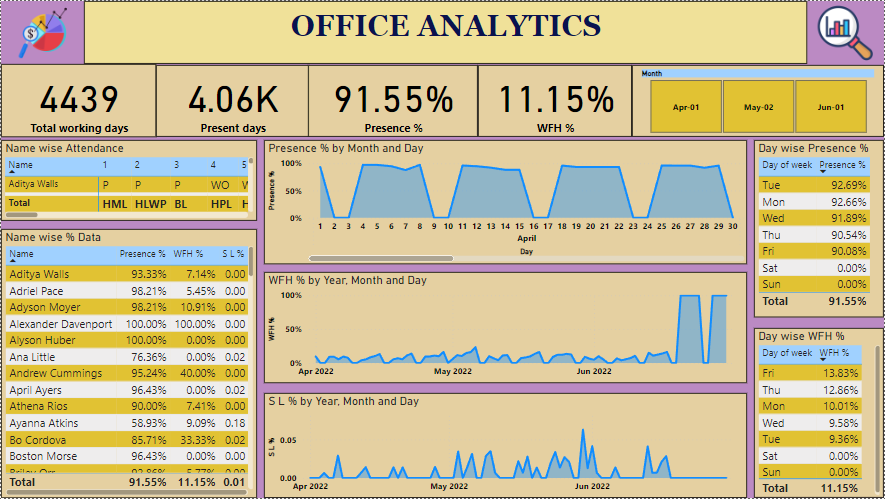

What the dashboard file says about the page in this screenshot:
{"tool":"powerbi","page":{"name":"Page 1","canvas":[1280,720],"ordinal":0},"visuals":[{"type":"card","fields":{"Values":["Final data.Total working days"]},"box":[0,91.3,224.6,105.8],"z":0},{"type":"card","fields":{"Values":["Final data.Present days"]},"box":[224.6,92.8,221.7,104.3],"z":1000},{"type":"card","fields":{"Values":["Final data.Presence %"]},"box":[444.9,92.8,246.4,104.3],"z":2000},{"type":"slicer","fields":{"Values":["Final data.Month"]},"box":[914.4,92.2,365.8,103.7],"z":3000},{"type":"card","fields":{"Values":["Final data.WFH %"]},"box":[691.3,92.8,223.2,104.3],"z":4000},{"type":"tableEx","title":"Name wise % Data","fields":{"Values":["Final data.Name","Final data.Presence %","Final data.WFH %","Final data.S L %"]},"box":[0,330.4,371,389.9],"z":5000},{"type":"pivotTable","title":"Name wise Attendance","fields":{"Rows":["Final data.Name"],"Values":["Final data.Value"],"Columns":["Final data.Date.Variation.Date Hierarchy.Day"]},"box":[0,201.4,371,117.4],"z":6000},{"type":"areaChart","fields":{"Y":["Final data.Presence %"],"Category":["Final data.Date.Variation.Date Hierarchy.Month","Final data.Date.Variation.Date Hierarchy.Day"]},"box":[381.2,201.4,700,179.7],"z":7000},{"type":"areaChart","fields":{"Y":["Final data.WFH %"],"Category":["Final data.Date.Variation.Date Hierarchy.Year","Final data.Date.Variation.Date Hierarchy.Month","Final data.Date.Variation.Date Hierarchy.Day"]},"box":[381.2,392.8,700,160.9],"z":8000},{"type":"areaChart","fields":{"Category":["Final data.Date.Variation.Date Hierarchy.Year","Final data.Date.Variation.Date Hierarchy.Month","Final data.Date.Variation.Date Hierarchy.Day"],"Y":["Final data.S L %"]},"box":[381.2,568.1,700,152.2],"z":9000},{"type":"tableEx","title":"Day wise Presence %","fields":{"Values":["Final data.Day of week","Final data.Presence %"]},"box":[1091.3,201.4,188.4,256.5],"z":10000},{"type":"tableEx","title":"Day wise WFH %","fields":{"Values":["Final data.Day of week","Final data.WFH %"]},"box":[1091.3,473.9,188.4,246.4],"z":11000},{"type":"textbox","box":[120.3,0,1047.8,91.3],"z":12000},{"type":"image","box":[0,0,120.3,92.8],"z":13000},{"type":"image","box":[1168.1,0,111.6,92.8],"z":14000}]}

Visuals, with their boxes in screenshot pixels (x1, y1, x2, y2), scaled from the page's 1280x720 canvas onto the 885x499 screenshot:
card - Final data.Total working days: l=0, t=63, r=155, b=137
card - Final data.Present days: l=155, t=64, r=309, b=137
card - Final data.Presence %: l=308, t=64, r=478, b=137
slicer - Final data.Month: l=632, t=64, r=884, b=136
card - Final data.WFH %: l=478, t=64, r=632, b=137
"Name wise % Data" tableEx: l=0, t=229, r=257, b=498
"Name wise Attendance" pivotTable: l=0, t=140, r=257, b=221
areaChart - Final data.Presence % x Final data.Date.Variation.Date Hierarchy.Month: l=264, t=140, r=748, b=264
areaChart - Final data.WFH % x Final data.Date.Variation.Date Hierarchy.Year: l=264, t=272, r=748, b=384
areaChart - Final data.Date.Variation.Date Hierarchy.Year x Final data.Date.Variation.Date Hierarchy.Month: l=264, t=394, r=748, b=498
"Day wise Presence %" tableEx: l=755, t=140, r=884, b=317
"Day wise WFH %" tableEx: l=755, t=328, r=884, b=498
textbox: l=83, t=0, r=808, b=63
image: l=0, t=0, r=83, b=64
image: l=808, t=0, r=884, b=64
